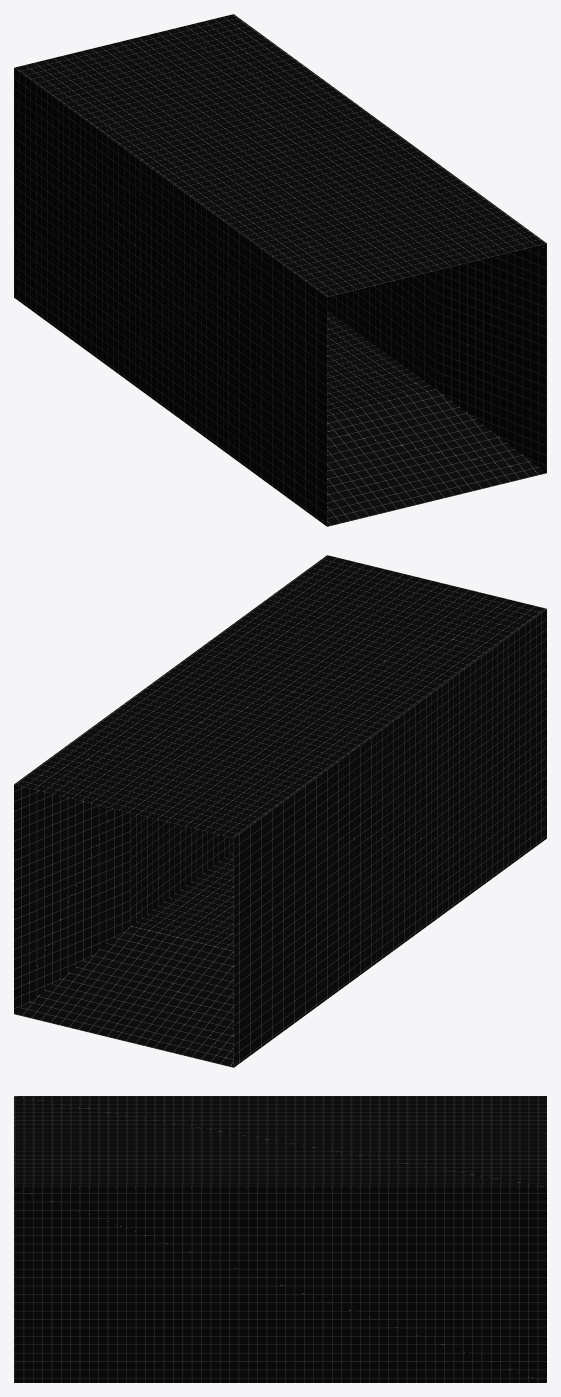
The model's file is grandearche-5.glb.
3 views of the same model, one above another, from view 1: azimuth 30°, elevation 25°; view 2: azimuth 150°, elevation 25°; view 3: azimuth 270°, elevation 25° (orthographic). The views are drawn at different scales.
Visible parts, largest first — view 1: Cube; view 2: Cube; view 3: Cube.
Part boxes in pixels (x1=…): Cube: x1=14, y1=14, x2=546, y2=526; Cube: x1=14, y1=555, x2=546, y2=1067; Cube: x1=14, y1=1096, x2=546, y2=1382.
Bounding box in the file's own units: 2 × 2 × 4.94.
Materials: 1 (1 with a texture image).
